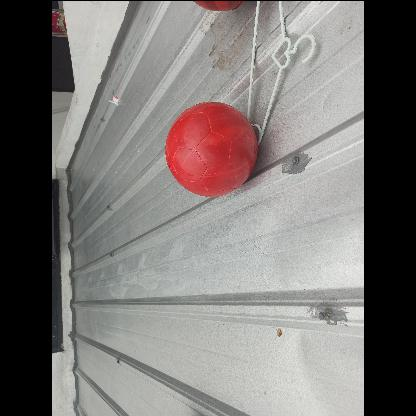red_ball: (164, 104, 256, 196)
